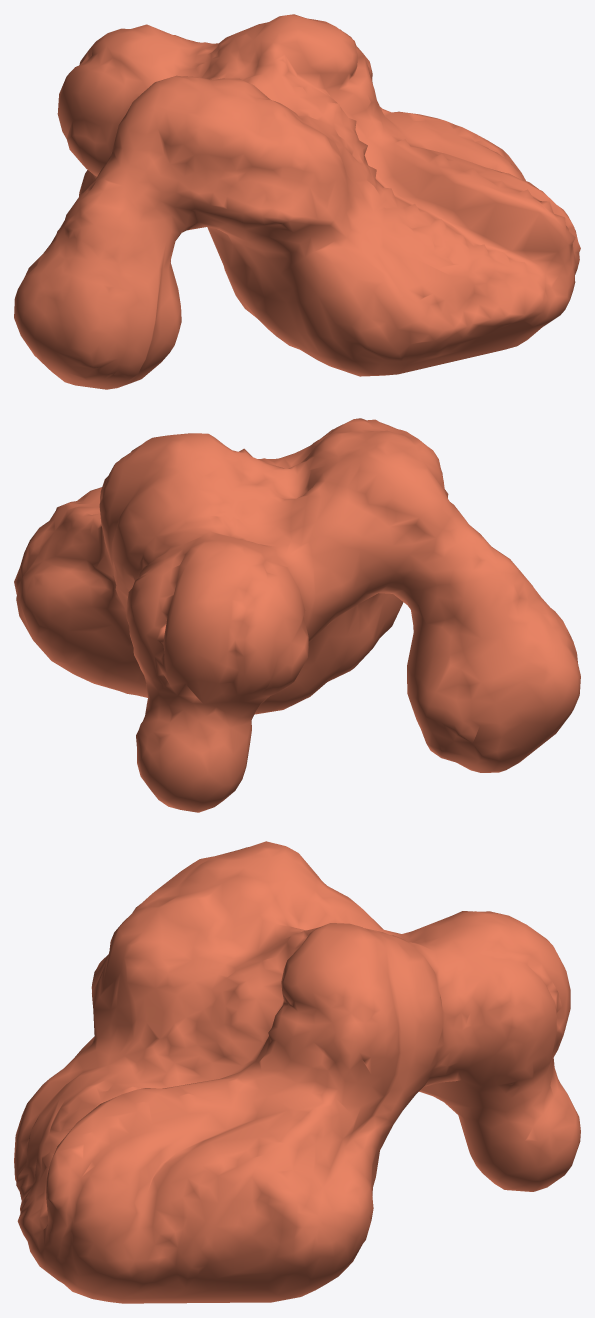
File: Scrungle.fbx
The picture shows the model from 3 angles, top to bottom: view 1: azimuth 30°, elevation 25°; view 2: azimuth 150°, elevation 25°; view 3: azimuth 270°, elevation 25°; orthographic projection. The views are drawn at different scales.
Parts seen in each view (by area): view 1: potat; view 2: potat; view 3: potat.
Boxes of the visible parts, <box> form: potat: <box>14,14,580,389</box>; potat: <box>14,418,580,812</box>; potat: <box>14,841,580,1303</box>.
Bounding box in the file's own units: 810 × 427 × 696.
